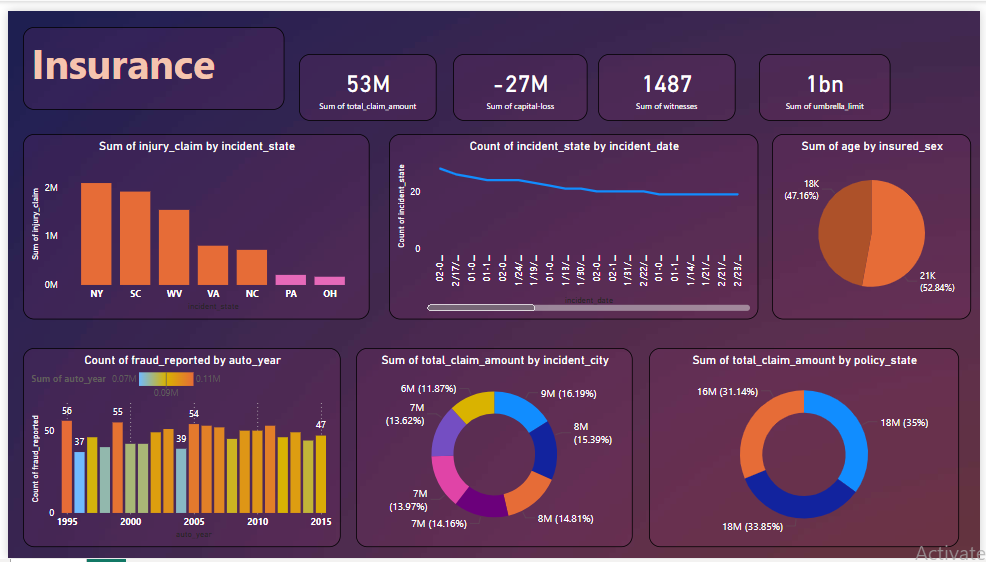

What the dashboard file says about the page in this screenshot:
{"tool":"powerbi","page":{"name":"Page 1","canvas":[1280,720],"ordinal":0},"visuals":[{"type":"clusteredColumnChart","fields":{"Y":["Sum(insurance.injury_claim)"],"Category":["insurance.incident_state"]},"box":[19.8,161.6,456.4,243.8],"z":0},{"type":"lineChart","fields":{"Category":["insurance.incident_date"],"Y":["CountNonNull(insurance.incident_state)"]},"box":[501.7,161.6,486.1,243.8],"z":1000},{"type":"pieChart","fields":{"Category":["insurance.insured_sex"],"Y":["Sum(insurance.age)"]},"box":[1004.9,161.6,262.2,243.8],"z":2000},{"type":"columnChart","fields":{"Category":["insurance.auto_year"],"Y":["CountNonNull(insurance.fraud_reported)"]},"box":[19.8,443.6,418.1,262.2],"z":3000},{"type":"textbox","box":[19.8,21.3,344.4,109.1],"z":4000},{"type":"donutChart","fields":{"Category":["insurance.policy_state"],"Y":["Sum(insurance.total_claim_amount)"]},"box":[843.3,443.6,408.2,262.2],"z":5000},{"type":"donutChart","fields":{"Category":["insurance.incident_city","insurance.policy_state"],"Y":["Sum(insurance.total_claim_amount)"]},"box":[457.8,443.6,364.3,262.2],"z":6000},{"type":"card","fields":{"Values":["Sum(insurance.total_claim_amount)"]},"box":[382.7,56.7,181.4,87.9],"z":7000},{"type":"card","fields":{"Values":["Sum(insurance.capital-loss)"]},"box":[585.4,56.7,177.2,87.9],"z":8000},{"type":"card","fields":{"Values":["Sum(insurance.witnesses)"]},"box":[776.7,56.7,181.4,87.9],"z":9000},{"type":"card","fields":{"Values":["Sum(insurance.umbrella_limit)"]},"box":[987.9,56.7,172.9,87.9],"z":10000}]}

Visuals, with their boxes in screenshot pixels (x1, y1, x2, y2), scaled from the page's 1280x720 canvas onto the 986x562 screenshot:
clusteredColumnChart - Sum(insurance.injury_claim) x insurance.incident_state: bbox=[15, 126, 367, 316]
lineChart - insurance.incident_date x CountNonNull(insurance.incident_state): bbox=[386, 126, 761, 316]
pieChart - insurance.insured_sex x Sum(insurance.age): bbox=[774, 126, 976, 316]
columnChart - insurance.auto_year x CountNonNull(insurance.fraud_reported): bbox=[15, 346, 337, 551]
textbox: bbox=[15, 17, 281, 102]
donutChart - insurance.policy_state x Sum(insurance.total_claim_amount): bbox=[650, 346, 964, 551]
donutChart - insurance.incident_city x insurance.policy_state: bbox=[353, 346, 633, 551]
card - Sum(insurance.total_claim_amount): bbox=[295, 44, 435, 113]
card - Sum(insurance.capital-loss): bbox=[451, 44, 587, 113]
card - Sum(insurance.witnesses): bbox=[598, 44, 738, 113]
card - Sum(insurance.umbrella_limit): bbox=[761, 44, 894, 113]
